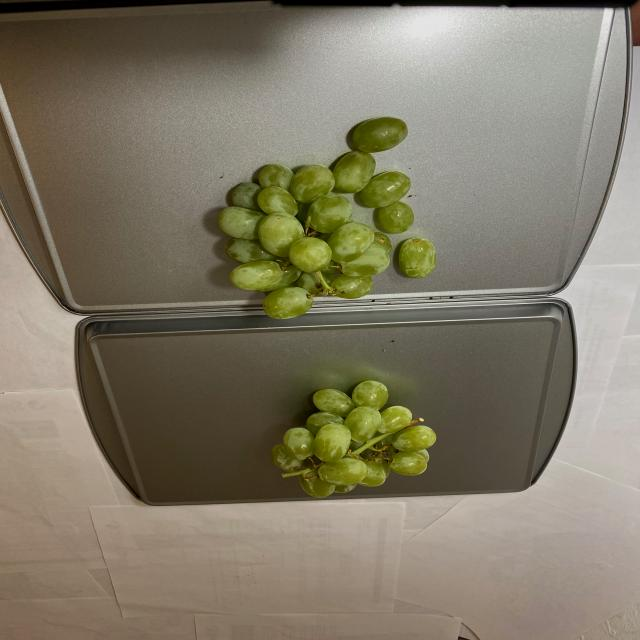grapes: (209, 118, 434, 320), (272, 374, 434, 498)
